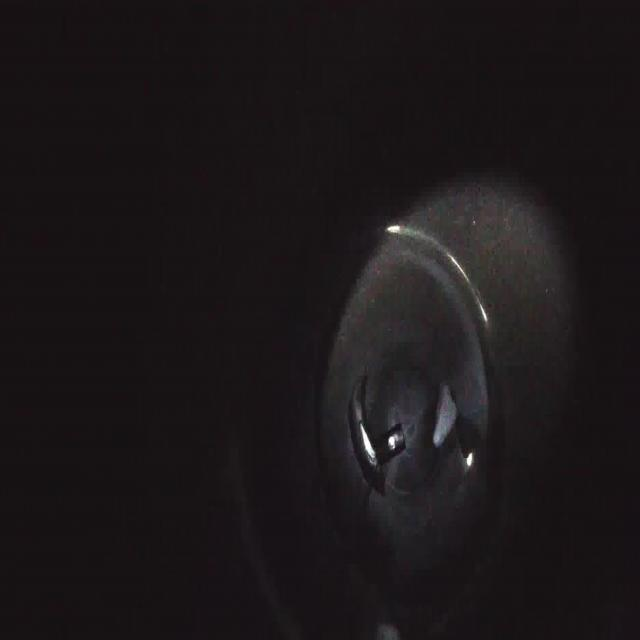impurity: (426, 377, 462, 451)
